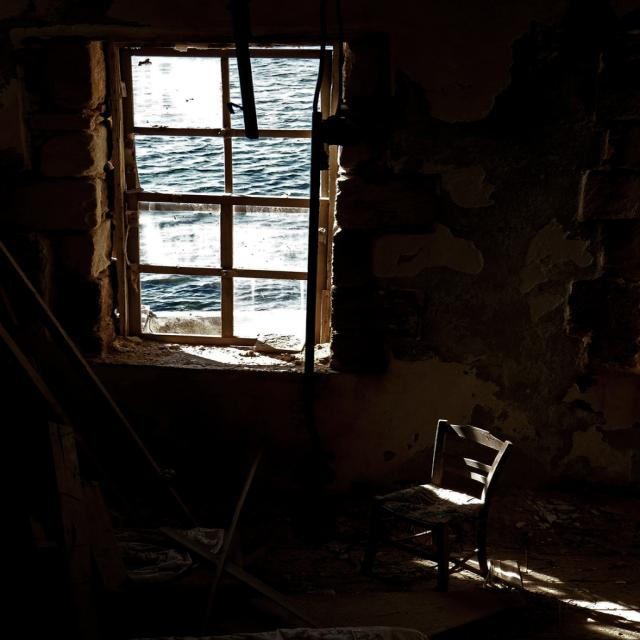chair: (384, 409, 557, 588)
